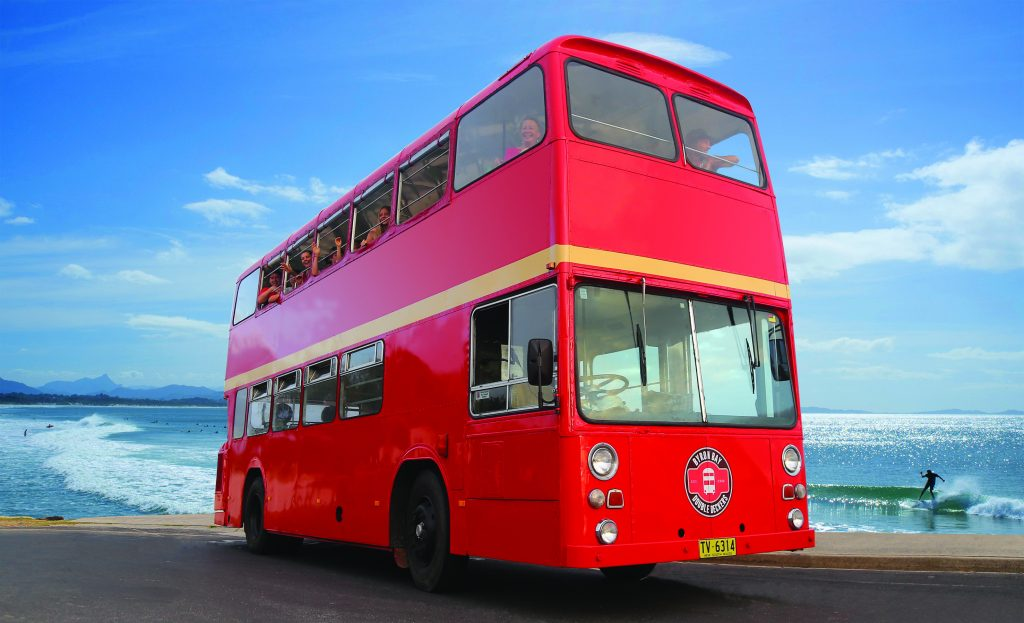red_buses: (214, 34, 815, 586)
